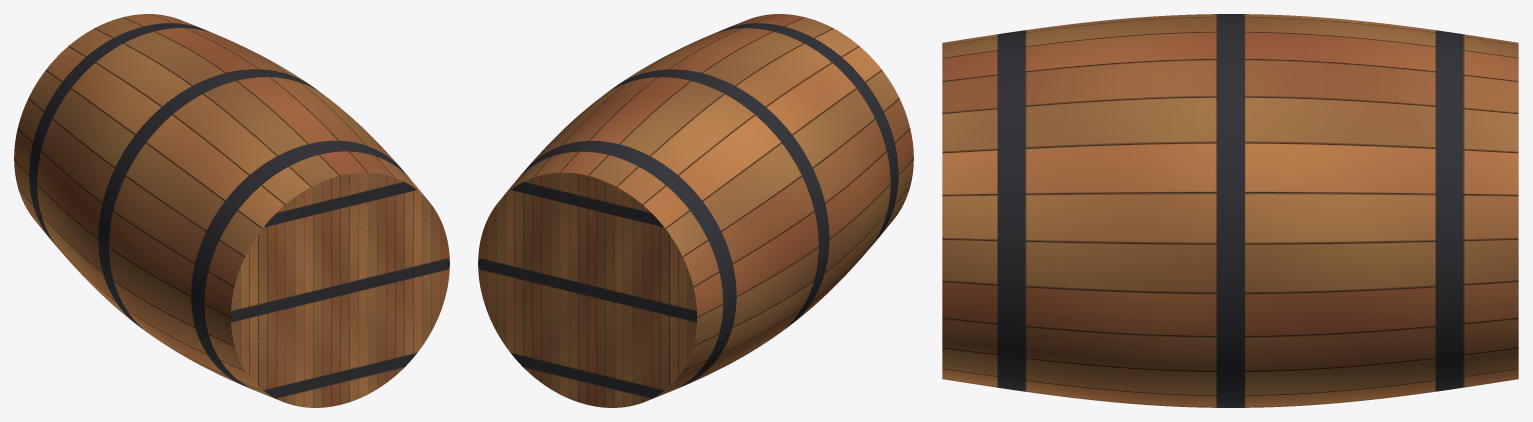
Rendered from barrel.gltf.
The picture shows the model from 3 angles, left to right: view 1: azimuth 30°, elevation 25°; view 2: azimuth 150°, elevation 25°; view 3: azimuth 270°, elevation 25°; orthographic projection. The views are drawn at different scales.
Visible parts, largest first — view 1: barrel; view 2: barrel; view 3: barrel.
Boxes of the visible parts, x1,y1,x2,y2 form: barrel: (14,14,449,407); barrel: (478,14,913,407); barrel: (942,14,1518,407).
Size of the model in its own units: 82 by 82 by 120.
1 material, 1 textured.
